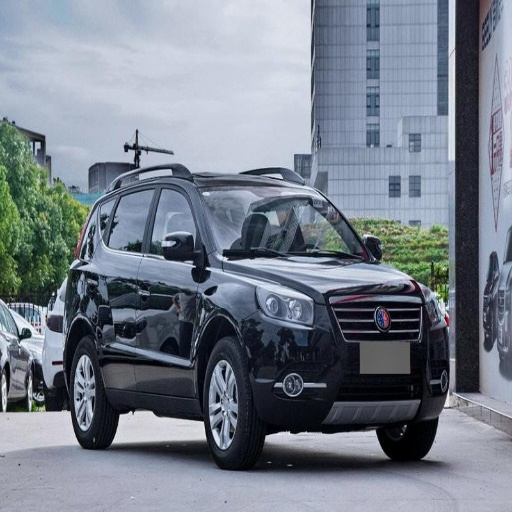front_bumper: (249, 287, 449, 425)
front_right_door: (136, 179, 204, 393)
front_right_light: (258, 285, 318, 325)
